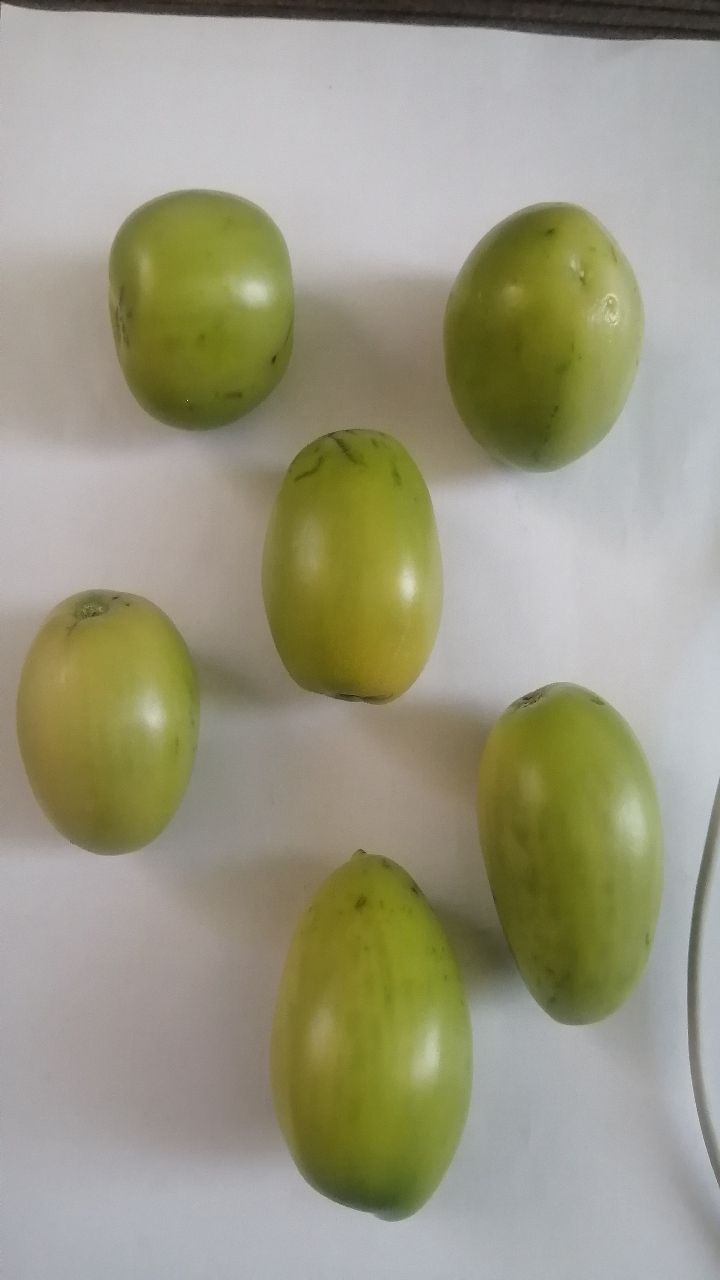tomateVerde: (234, 837, 491, 1243), (434, 669, 671, 1049), (238, 402, 484, 731), (429, 166, 664, 495), (81, 148, 323, 435), (9, 557, 212, 869)
